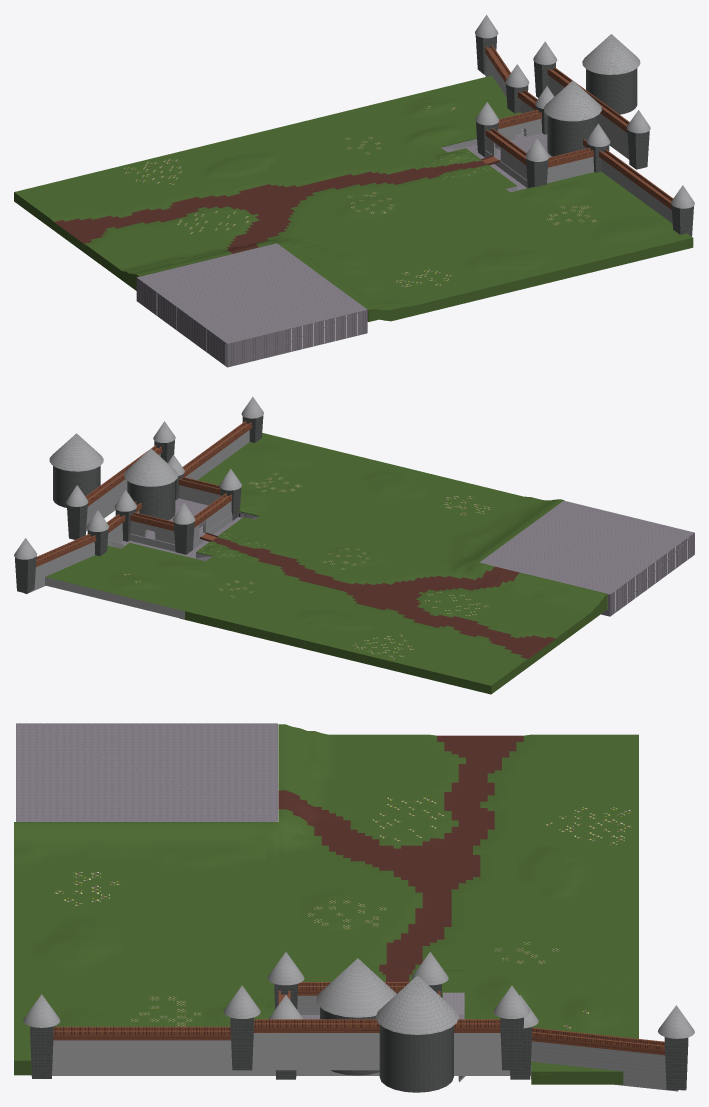
File: MainSceneTestPlane.fbx
The picture shows the model from 3 angles, top to bottom: view 1: azimuth 30°, elevation 25°; view 2: azimuth 150°, elevation 25°; view 3: azimuth 270°, elevation 25°; orthographic projection. The views are drawn at different scales.
Parts seen in each view (by area): view 1: MainPlane, RightPlane, VillagePeninsula, LeftPlane, MainCentralPlane, BackCentre1, CentreCone, BackCentreCone, Centre1, CastleBackRightWall, Lookout6, CastleBackWall (+6 smaller); view 2: MainPlane, RightPlane, VillagePeninsula, LeftPlane, MainCentralPlane, Lookout6 (×2), Centre1, CentreCone, BackCentreCone, BackCentre1, CastleGrounds, CastleBackRightWall1 (+7 smaller); view 3: MainPlane, RightPlane, VillagePeninsula, LeftPlane, CastleBackRightWall, CastleBackBackWall, Lookout6 (×2), Pillar1Cine (×6), BackCentre1, CastleBackRightWall1, BackCentreCone, CentreCone (+8 smaller).
Part boxes in pixels (x1,y1,x2,y2): MainPlane: [14, 112, 471, 290]; RightPlane: [277, 171, 693, 321]; VillagePeninsula: [136, 243, 367, 367]; LeftPlane: [342, 75, 521, 156]; MainCentralPlane: [409, 147, 516, 201]; BackCentre1: [586, 68, 637, 114]; CentreCone: [544, 80, 601, 121]; BackCentreCone: [582, 34, 640, 74]; Centre1: [547, 115, 598, 156]; CastleBackRightWall: [601, 159, 672, 223]; Lookout6: [599, 149, 673, 209]; CastleBackWall: [520, 100, 594, 183]; MainPlane: [179, 525, 607, 694]; RightPlane: [197, 433, 564, 563]; VillagePeninsula: [479, 500, 694, 616]; LeftPlane: [45, 542, 240, 619]; MainCentralPlane: [196, 516, 295, 568]; Lookout6 (×2): [36, 421, 252, 566]; Centre1: [127, 481, 175, 520]; CentreCone: [124, 448, 178, 486]; BackCentreCone: [49, 433, 103, 471]; BackCentre1: [53, 466, 100, 507]; CastleGrounds: [129, 498, 232, 551]; CastleBackRightWall1: [24, 542, 94, 593]; MainPlane: [278, 724, 638, 970]; RightPlane: [14, 822, 279, 1075]; VillagePeninsula: [16, 723, 277, 821]; LeftPlane: [464, 965, 638, 1084]; CastleBackRightWall: [52, 1040, 275, 1075]; CastleBackBackWall: [252, 1033, 501, 1070]; Lookout6 (×2): [53, 1026, 664, 1055]; Pillar1Cine (×6): [23, 952, 694, 1038]; BackCentre1: [379, 1024, 453, 1092]; CastleBackRightWall1: [530, 1041, 678, 1091]; BackCentreCone: [376, 975, 458, 1034]; CentreCone: [316, 958, 396, 1017].
Size of the model in its own units: 108970 by 19801 by 81158.
Materials: 13 (10 with a texture image).
